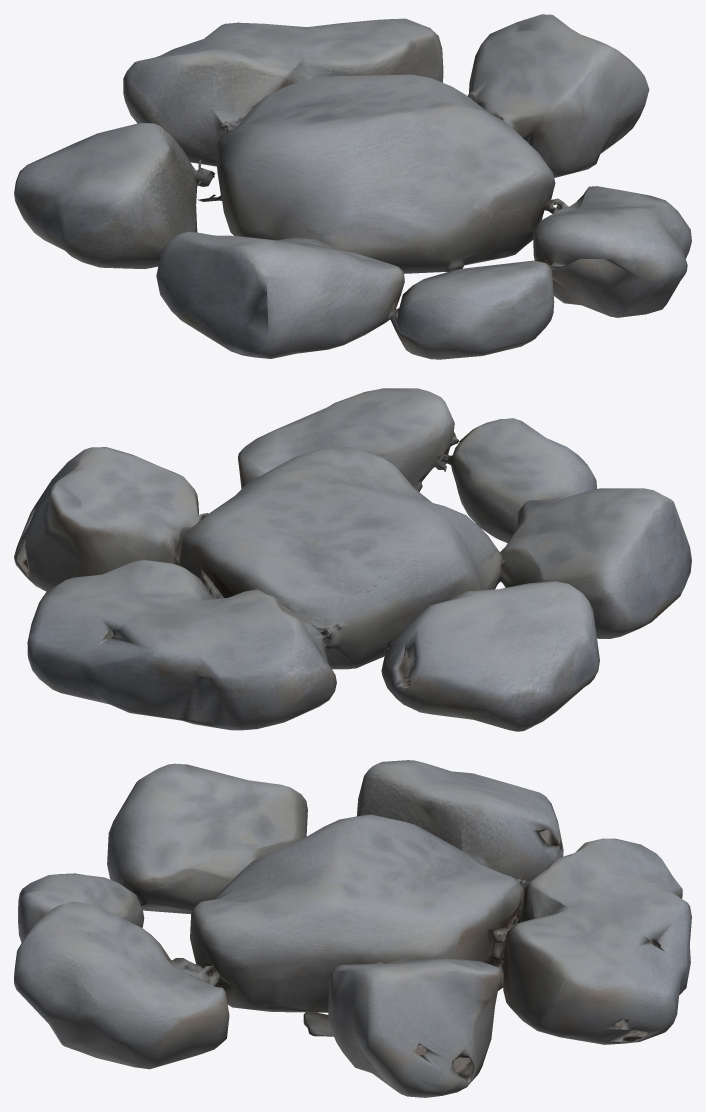
File: pebbles.glb
The picture shows the model from 3 angles, top to bottom: view 1: azimuth 30°, elevation 25°; view 2: azimuth 150°, elevation 25°; view 3: azimuth 270°, elevation 25°; orthographic projection.
Bounding box in the file's own units: 1.94 × 0.421 × 2.
1 material, 1 textured.
